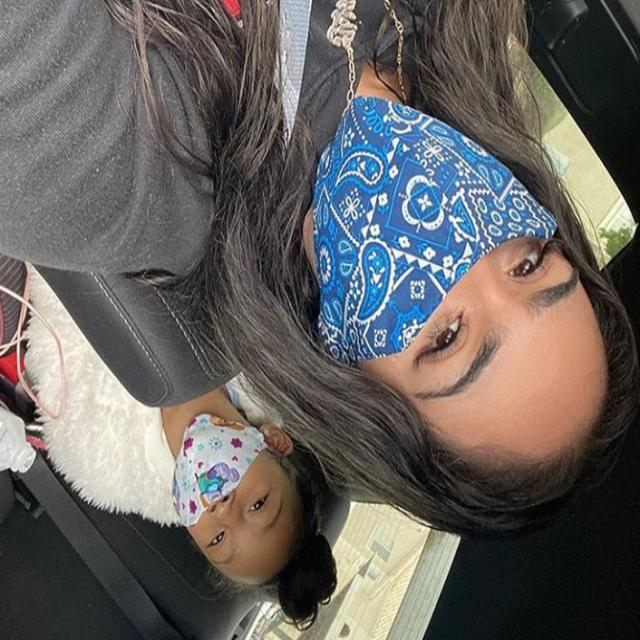mask: (306, 86, 562, 373), (170, 410, 272, 532)
